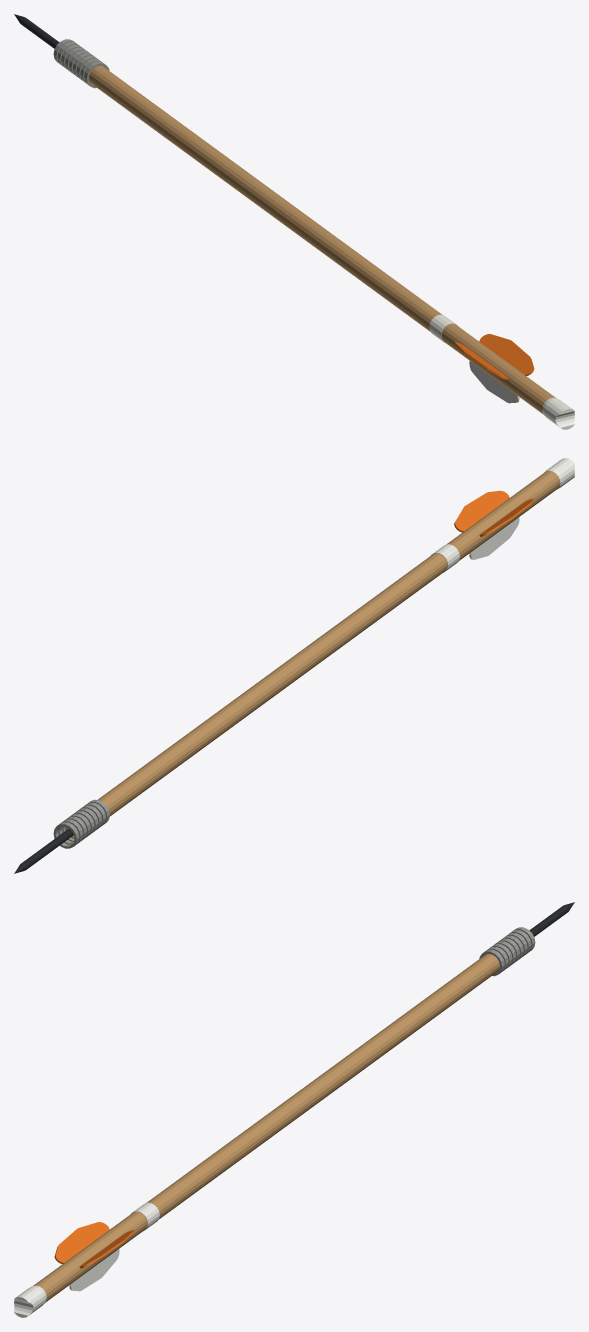
Rendered from virote_prego.glb.
3 views of the same model, one above another, from view 1: azimuth 30°, elevation 25°; view 2: azimuth 150°, elevation 25°; view 3: azimuth 330°, elevation 25° (orthographic).
Visible parts, largest first — view 1: virote_prego_haste_madeira, virote_prego_pena_laranja, virote_prego_fita_cinza, virote_prego_tinta_branca, virote_prego_plastico_branco; view 2: virote_prego_haste_madeira, virote_prego_pena_laranja, virote_prego_fita_cinza, virote_prego_tinta_branca, virote_prego_aco_oxidado; view 3: virote_prego_haste_madeira, virote_prego_pena_laranja, virote_prego_fita_cinza, virote_prego_tinta_branca, virote_prego_plastico_branco.
Boxes of the visible parts, x1,y1,x2,y2 form: virote_prego_haste_madeira: (89, 66, 555, 414); virote_prego_pena_laranja: (454, 334, 534, 380); virote_prego_fita_cinza: (53, 39, 109, 88); virote_prego_tinta_branca: (429, 314, 519, 403); virote_prego_plastico_branco: (542, 397, 574, 429); virote_prego_haste_madeira: (97, 470, 560, 816); virote_prego_pena_laranja: (454, 490, 533, 536); virote_prego_fita_cinza: (53, 799, 109, 848); virote_prego_tinta_branca: (431, 517, 519, 572); virote_prego_aco_oxidado: (14, 828, 73, 873); virote_prego_haste_madeira: (33, 954, 499, 1302); virote_prego_pena_laranja: (54, 1222, 134, 1268); virote_prego_fita_cinza: (479, 927, 535, 976); virote_prego_tinta_branca: (69, 1202, 159, 1291); virote_prego_plastico_branco: (14, 1285, 46, 1317).
Bounding box in the file's own units: 0.0237 × 0.0206 × 0.472.
